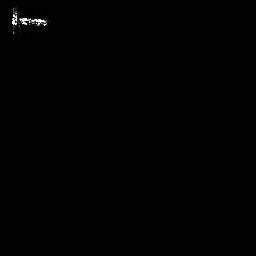ship: (10, 9, 48, 30)
